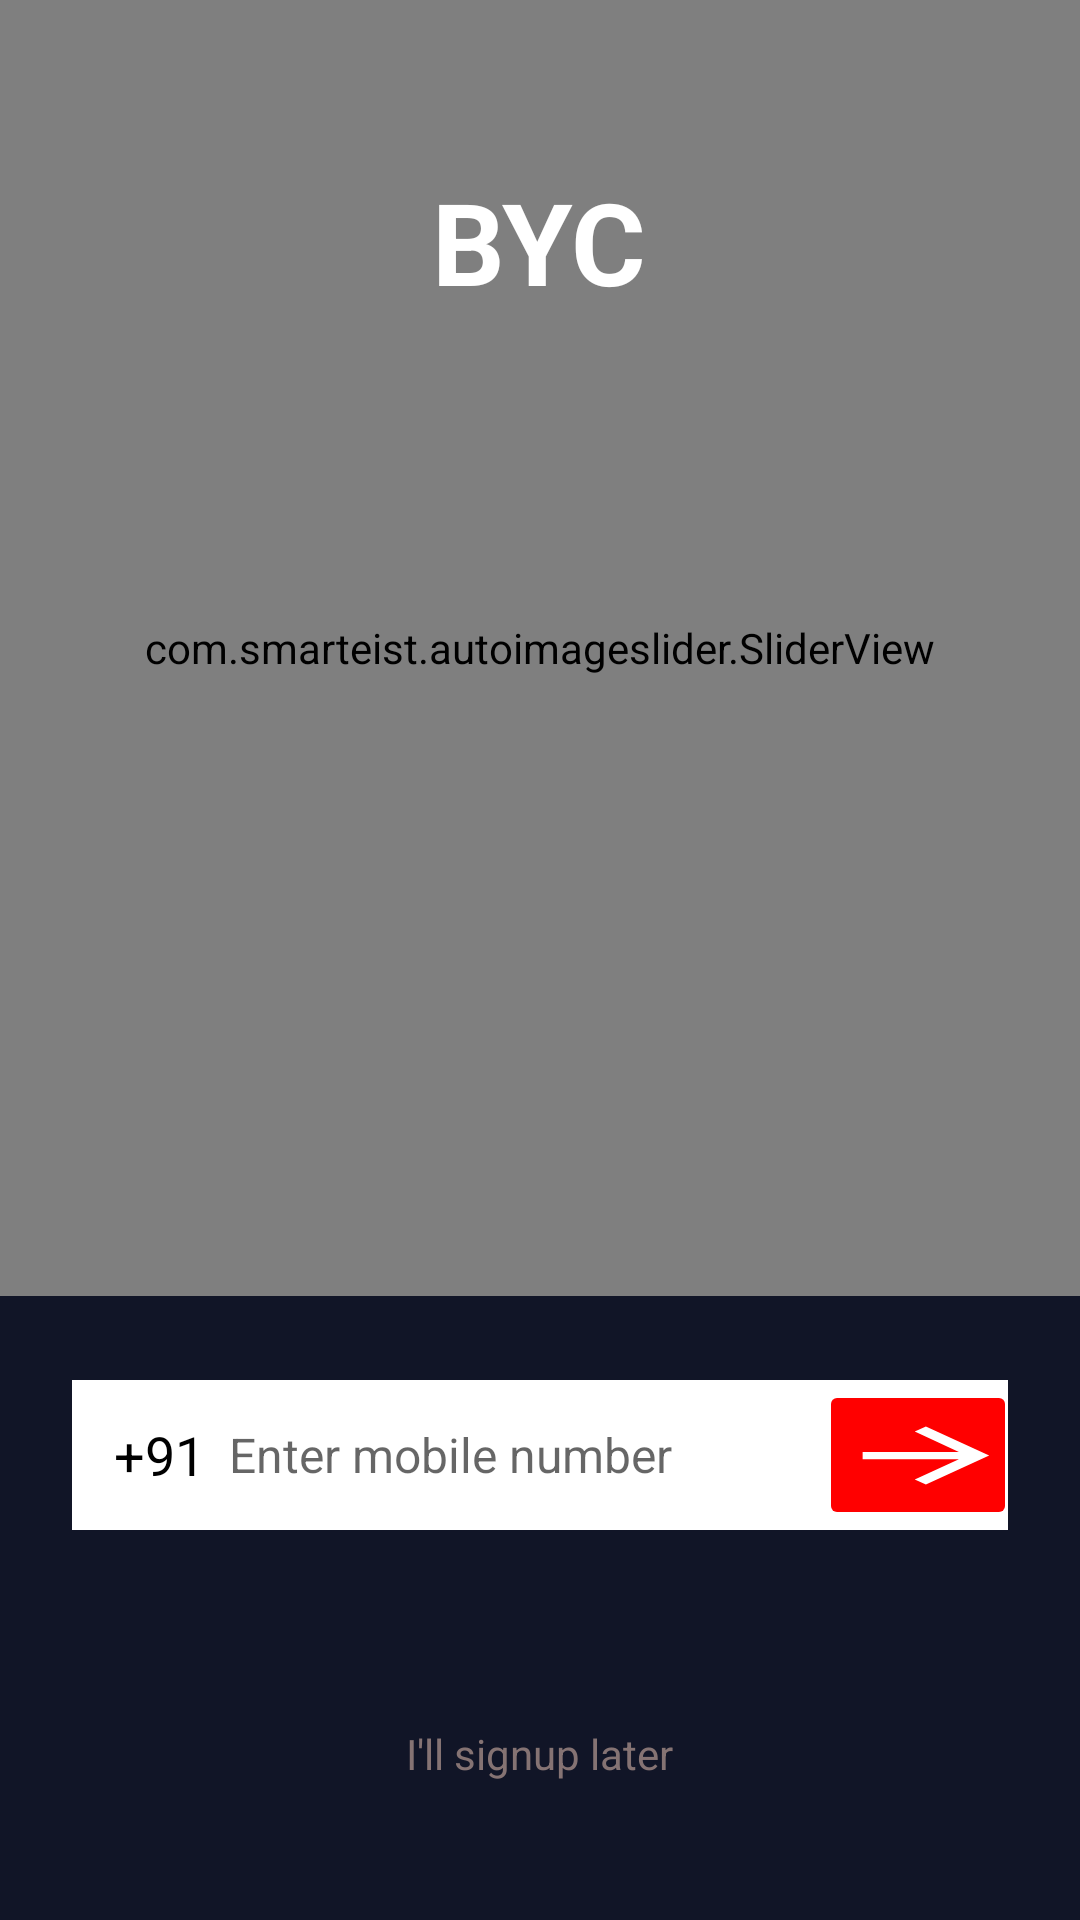

Icons on this 1080w x 1920h Android screen, each with the point to tap as (x,y):
Send: (918,1455)
